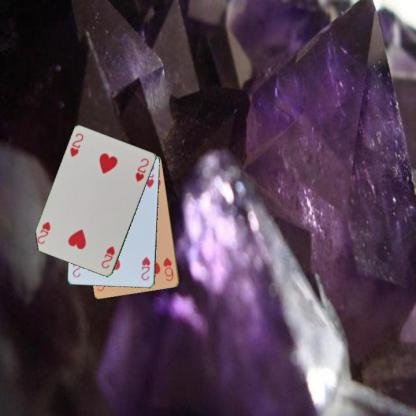2h: (68, 131, 85, 158), (99, 244, 116, 270), (139, 254, 151, 282)
6h: (161, 255, 175, 282)
